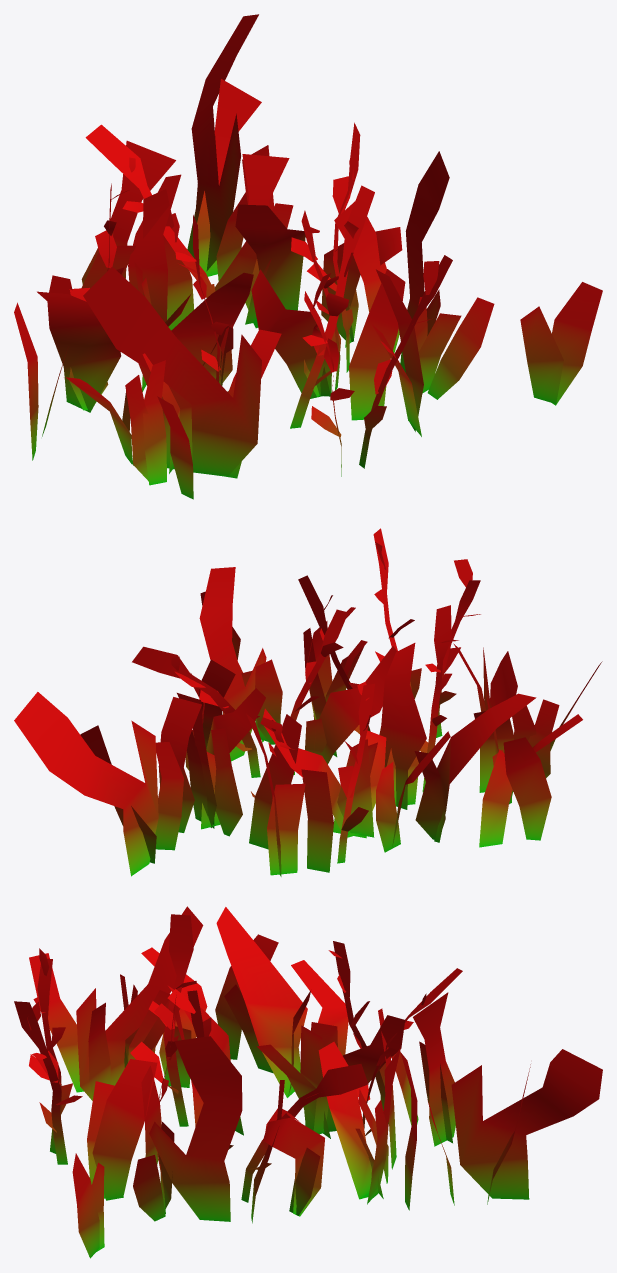
Rendered from Var8_LOD1.fbx.
3 views of the same model, one above another, from view 1: azimuth 30°, elevation 25°; view 2: azimuth 150°, elevation 25°; view 3: azimuth 270°, elevation 25° (orthographic). The views are drawn at different scales.
Visible parts, largest first — view 1: _32e0_Var8_LOD1; view 2: _32e0_Var8_LOD1; view 3: _32e0_Var8_LOD1.
Part boxes in pixels (x1,y1,x2,y2): _32e0_Var8_LOD1: [14, 14, 602, 499]; _32e0_Var8_LOD1: [14, 528, 602, 876]; _32e0_Var8_LOD1: [14, 906, 602, 1258].
Bounding box in the file's own units: 17.55 × 7.76 × 19.69.
